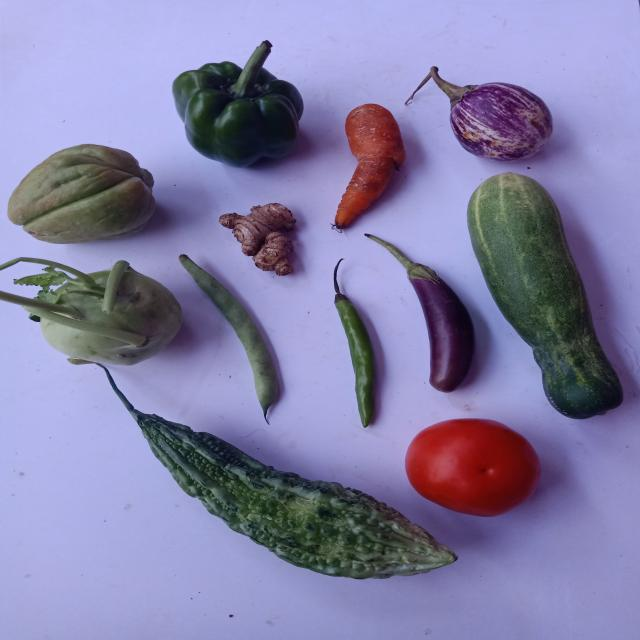Beans: (178, 254, 278, 420)
Bitter Gourd: (105, 371, 457, 580)
Brinjal: (366, 234, 474, 392)
Capsicum: (172, 40, 303, 167)
Carrot: (335, 103, 405, 228)
Chayote: (6, 144, 154, 243), (417, 66, 553, 160)
Cucumber: (468, 172, 624, 419)
Ginger: (219, 203, 295, 275)
Green Chilly: (334, 261, 375, 428)
Tomato: (405, 419, 541, 517)
Turnip: (0, 257, 181, 365)
